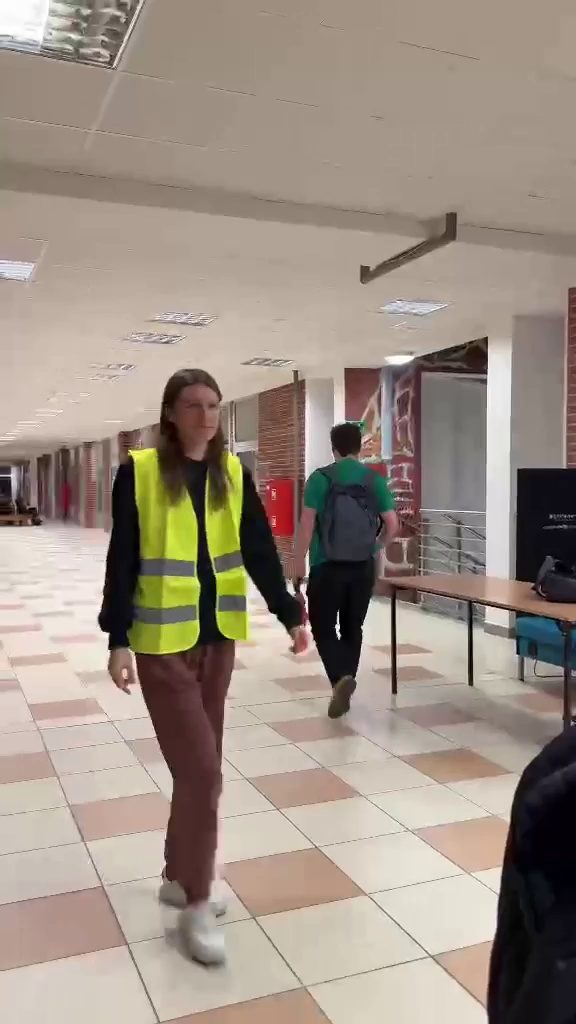no vest: (297, 412, 398, 711)
vest: (105, 356, 300, 966)
